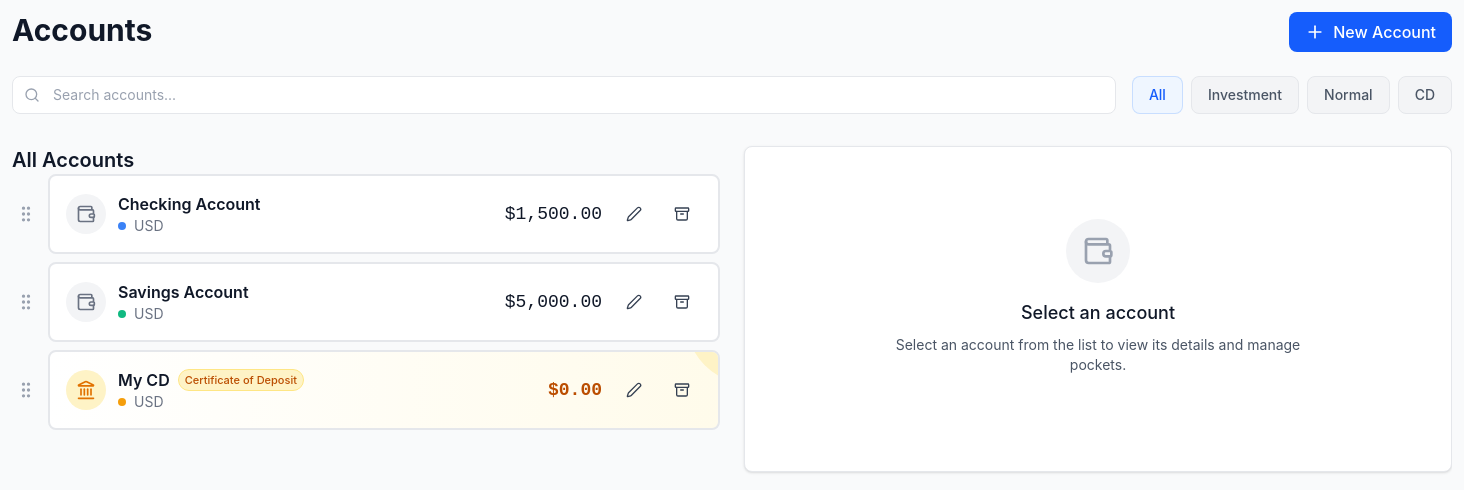
AccountsPage › filters accounts by type when a type filter button is clicked
This screenshot has width=1464, height=490.
Expected: the heading "Checking Account" is shown, [118, 192, 260, 216]
Expected: the heading "My CD" is shown, [118, 368, 170, 392]
# CD filter should hide non-CD accounts and keep the CD one.
Click the button "CD". click: (1425, 95)
box: [1398, 76, 1452, 114]
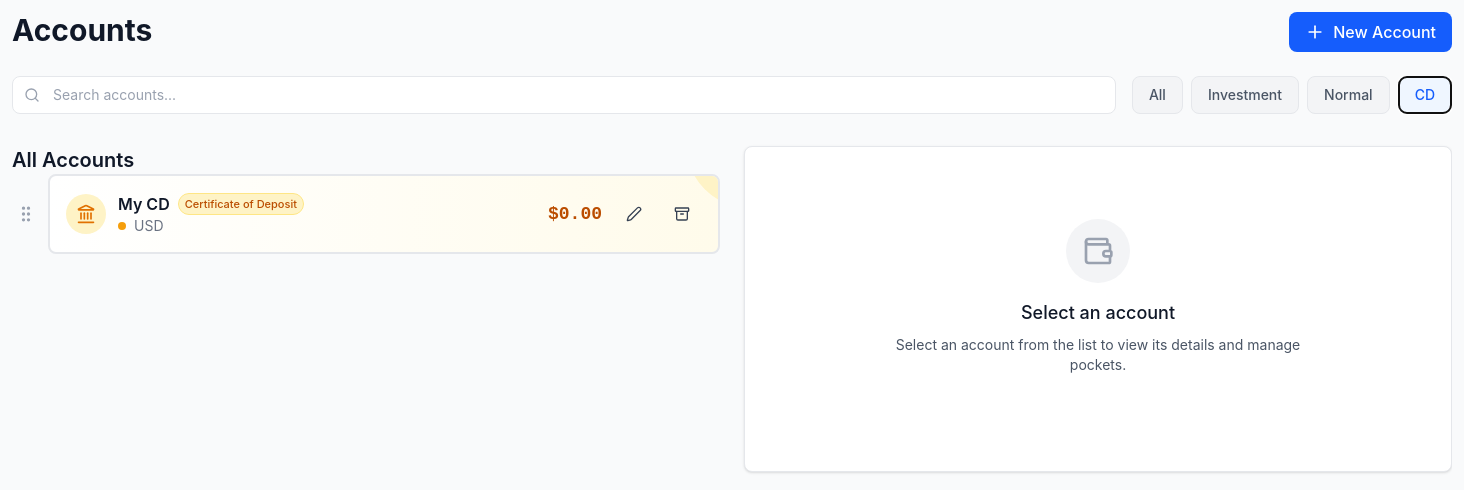
Expected: the heading "My CD" is shown, [118, 192, 170, 216]
Result: the heading "Checking Account" is gone
Result: the heading "Savings Account" is gone
